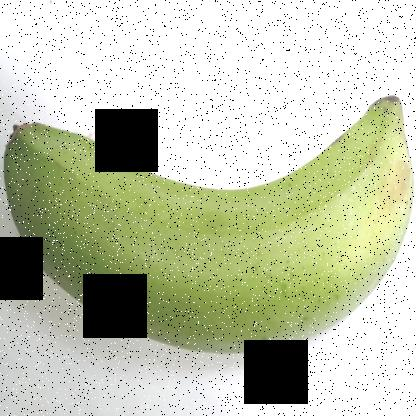freshunripe: (1, 93, 415, 374)
